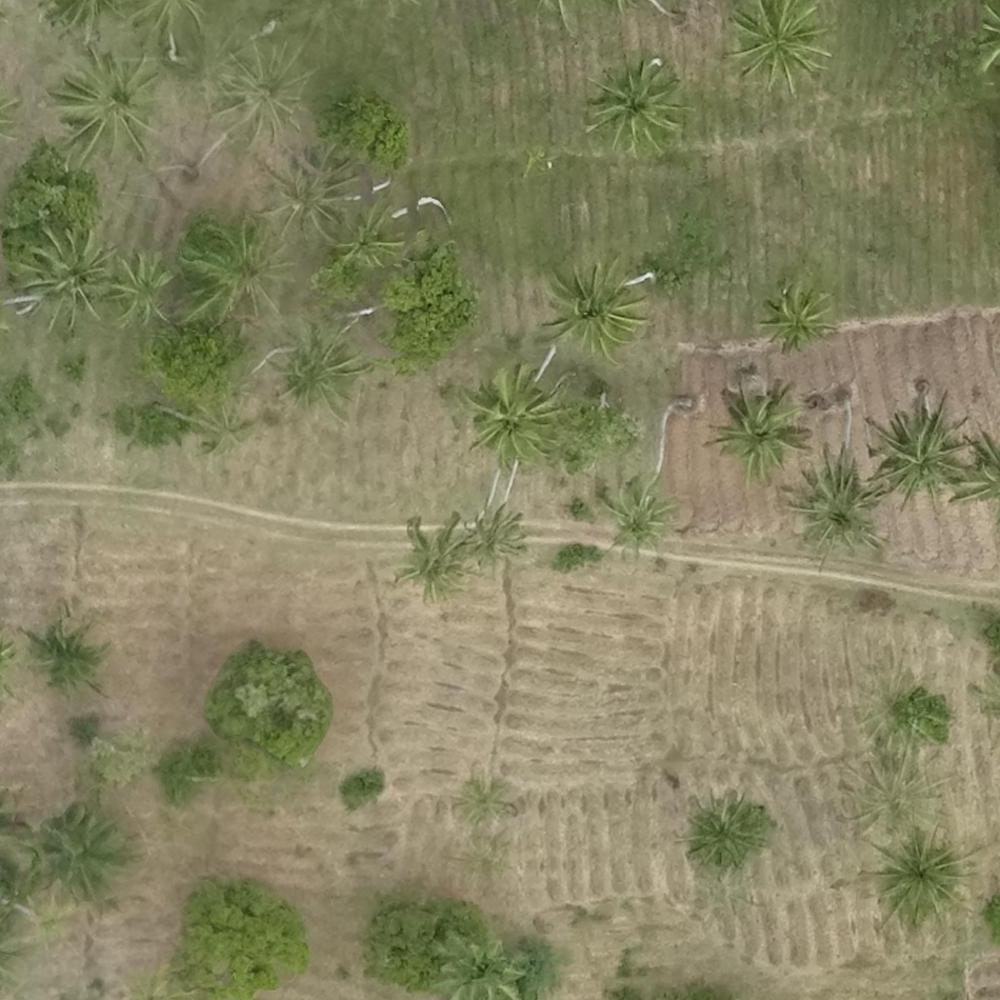Palm: (46, 49, 154, 159), (722, 2, 830, 97), (867, 827, 967, 925), (715, 372, 810, 473), (18, 229, 115, 327), (586, 57, 681, 157), (870, 400, 962, 501), (547, 259, 642, 352), (465, 369, 559, 461), (786, 455, 875, 545), (688, 799, 768, 878), (435, 927, 524, 998), (395, 518, 471, 599), (108, 249, 174, 324), (766, 284, 832, 348), (604, 490, 666, 551), (467, 508, 527, 571)
